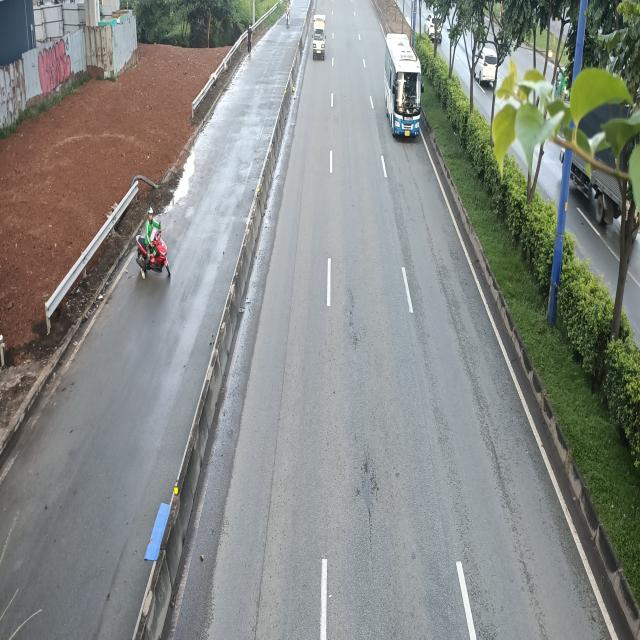coach: (384, 33, 423, 140)
truck: (312, 14, 328, 61)
